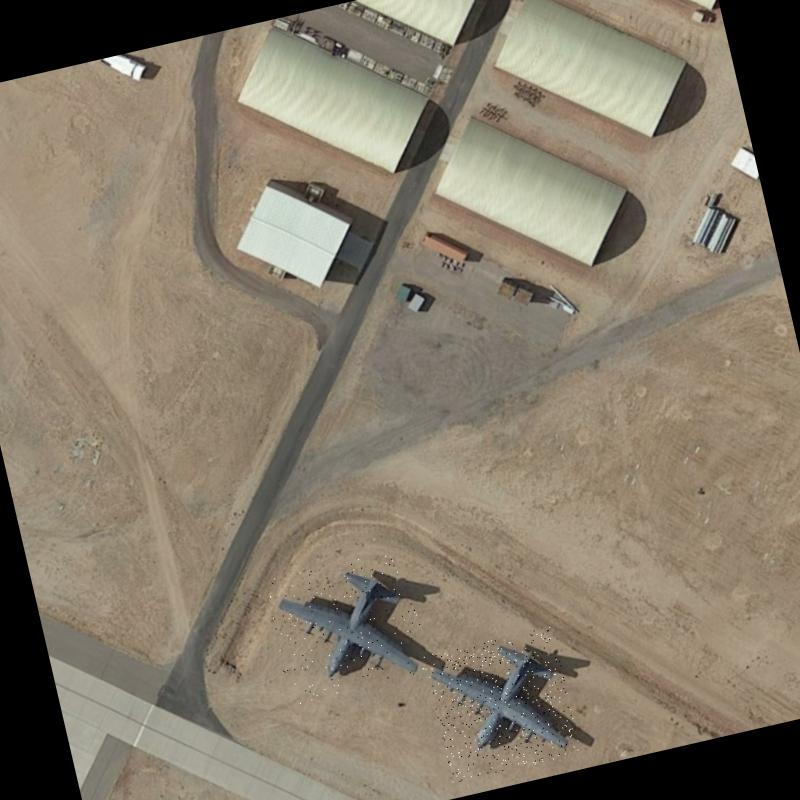A2: (261, 548, 431, 706), (423, 626, 581, 783)
